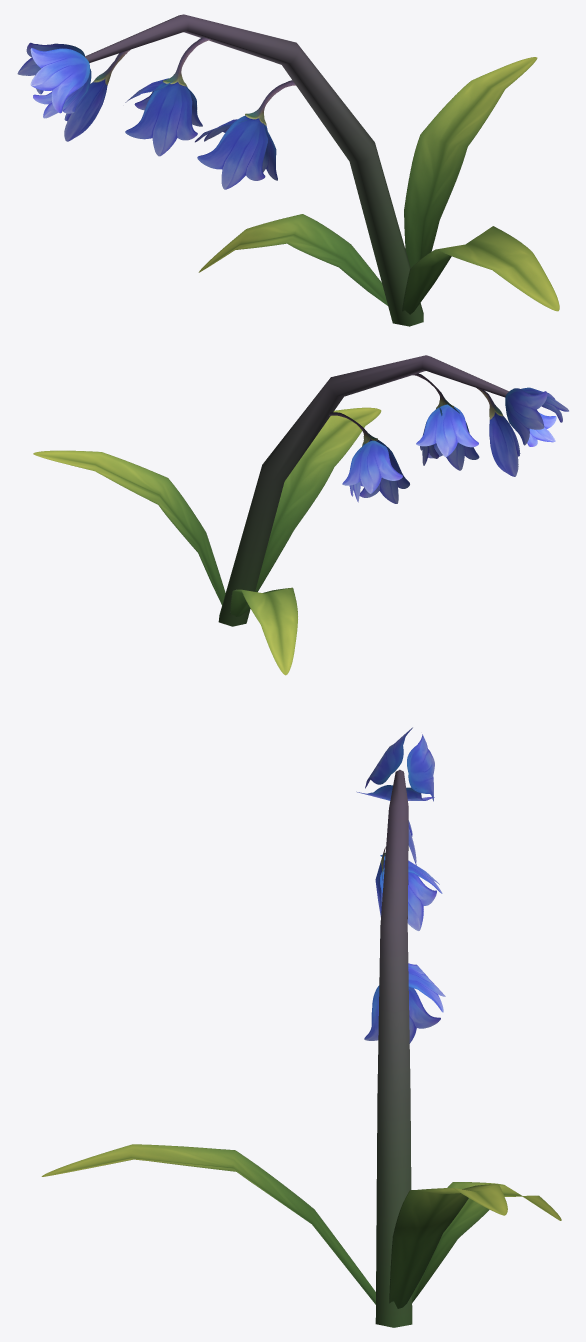
The picture shows the model from 3 angles, top to bottom: view 1: azimuth 30°, elevation 25°; view 2: azimuth 150°, elevation 25°; view 3: azimuth 270°, elevation 25°; orthographic projection. The views are drawn at different scales.
Parts seen in each view (by area): view 1: pl-flowers-bluebell; view 2: pl-flowers-bluebell; view 3: pl-flowers-bluebell.
Part boxes in pixels (x1=…): pl-flowers-bluebell: x1=17, y1=14, x2=559, y2=326; pl-flowers-bluebell: x1=33, y1=355, x2=568, y2=675; pl-flowers-bluebell: x1=41, y1=727, x2=561, y2=1327.
Bounding box in the file's own units: 1.19 × 0.7089 × 0.8929.
1 material, 1 textured.
